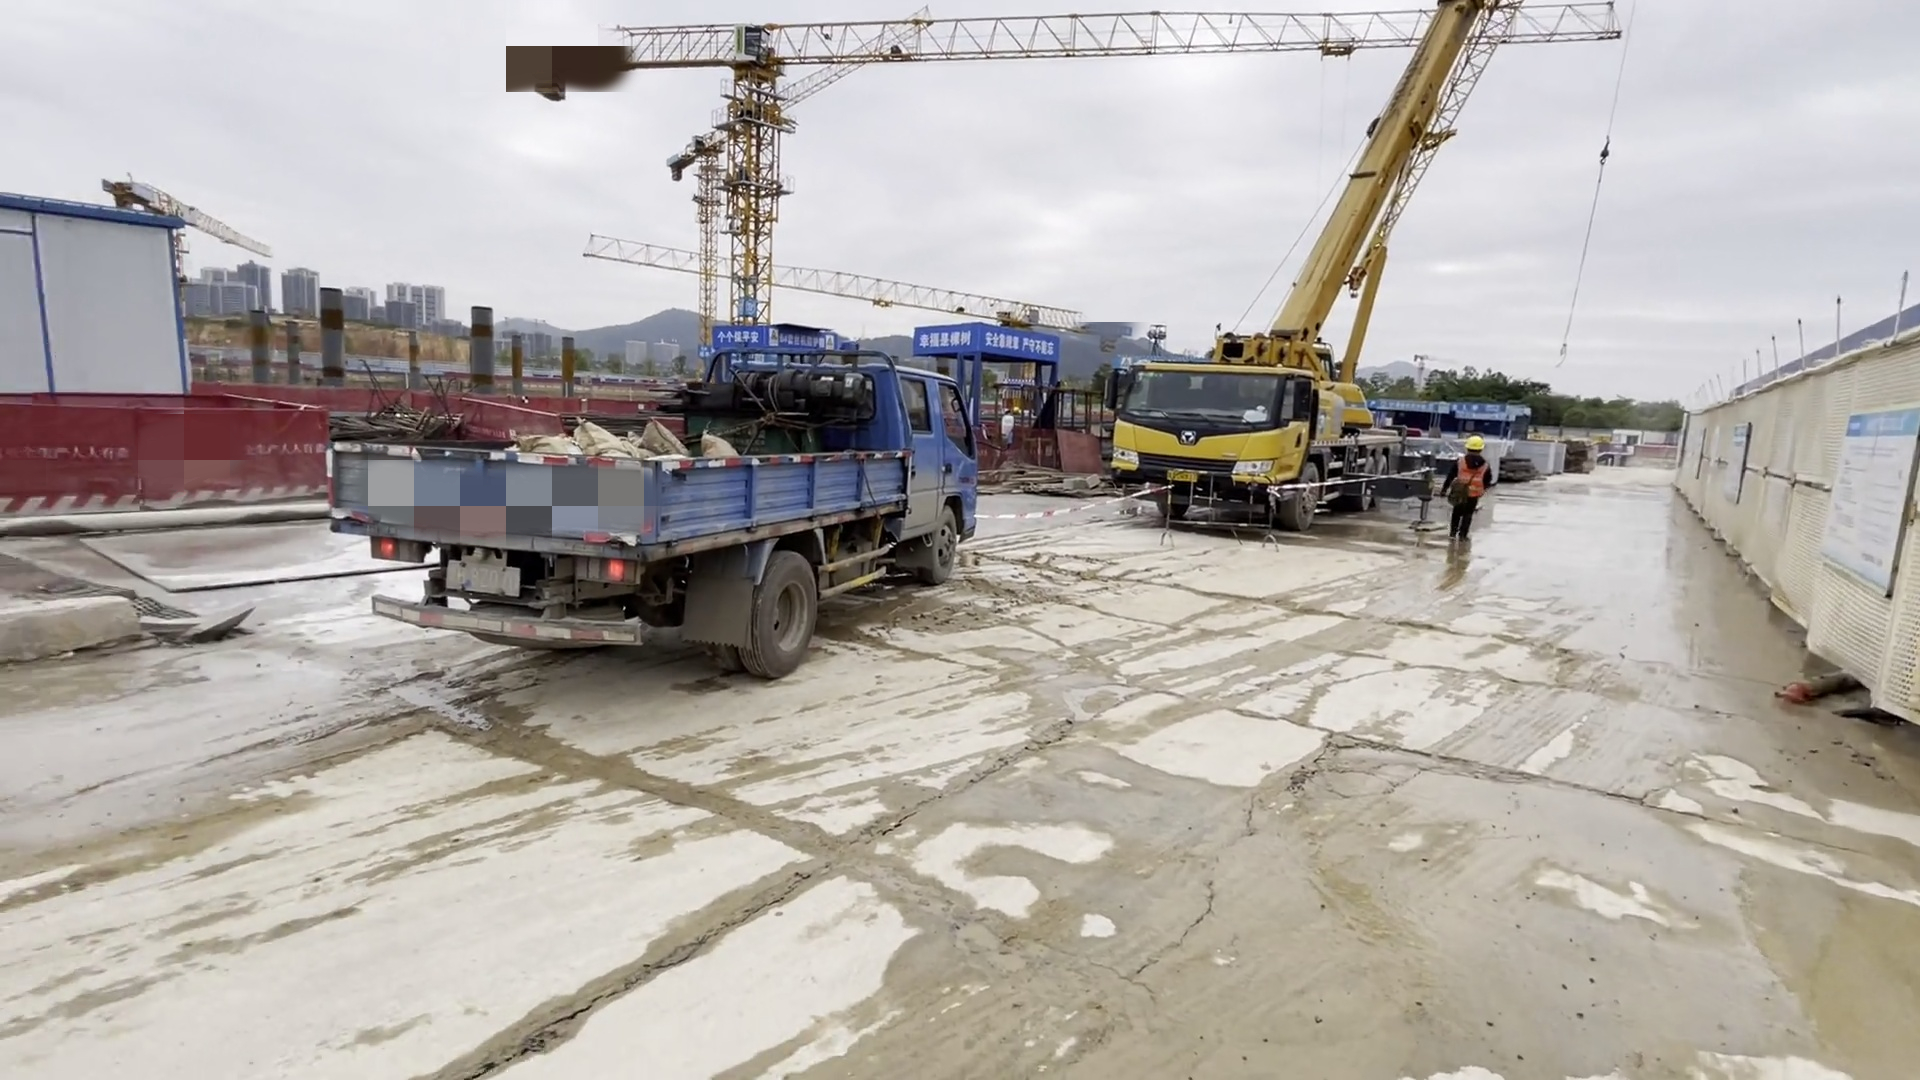helmet: (1460, 425, 1486, 451)
person: (1443, 431, 1499, 568)
slogan: (917, 320, 1073, 372), (695, 322, 849, 353)
vest: (1447, 451, 1495, 520)
